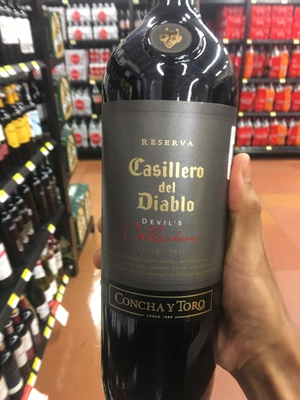casillero del diablo devils collection rojo: (99, 4, 233, 400)
